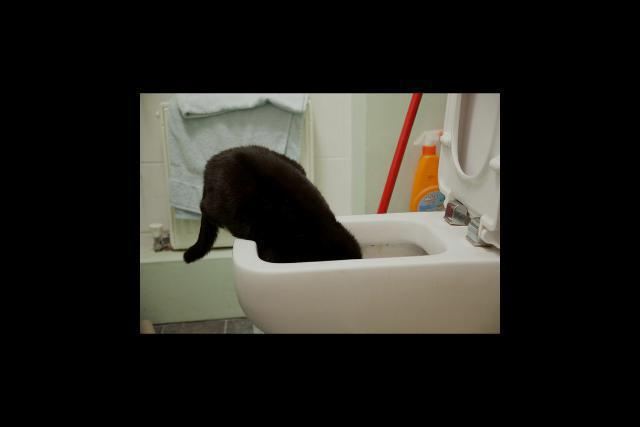Otro Obstaculo: (183, 142, 370, 279)
Sanitario: (234, 100, 499, 332)
